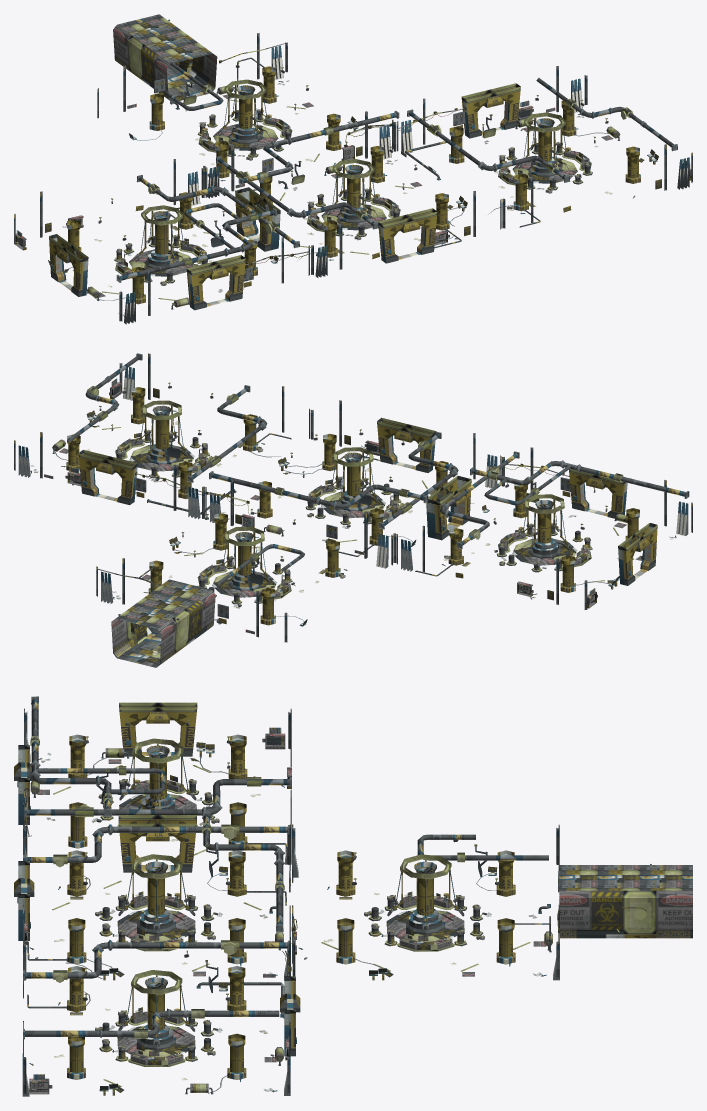
Rendered from Combined_Mesh_root_scene__10_7ad9d44b__ZombiesII_laboratory_06_d_24666406_c1f257_part001.obj.
The picture shows the model from 3 angles, top to bottom: view 1: azimuth 30°, elevation 25°; view 2: azimuth 150°, elevation 25°; view 3: azimuth 270°, elevation 25°; orthographic projection. The views are drawn at different scales.
Bounding box in the file's own units: 124 × 10.34 × 102.
Materials: 541 (541 with a texture image).
